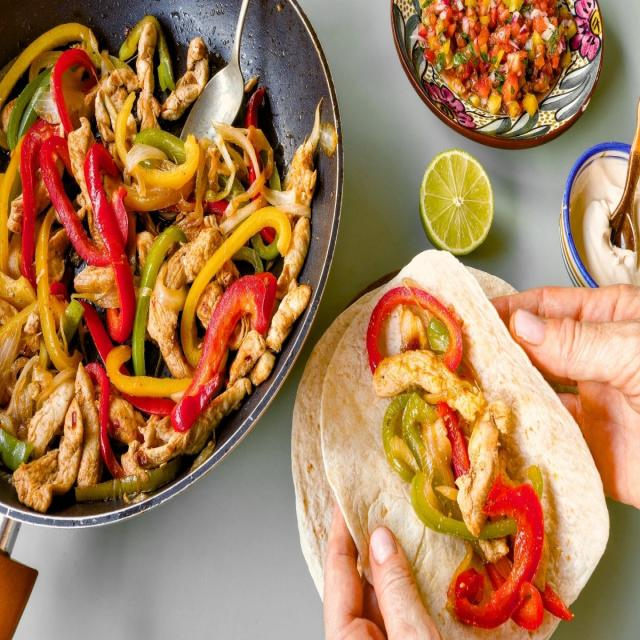pasta: (2, 9, 292, 524)
pollo: (369, 339, 518, 449)
